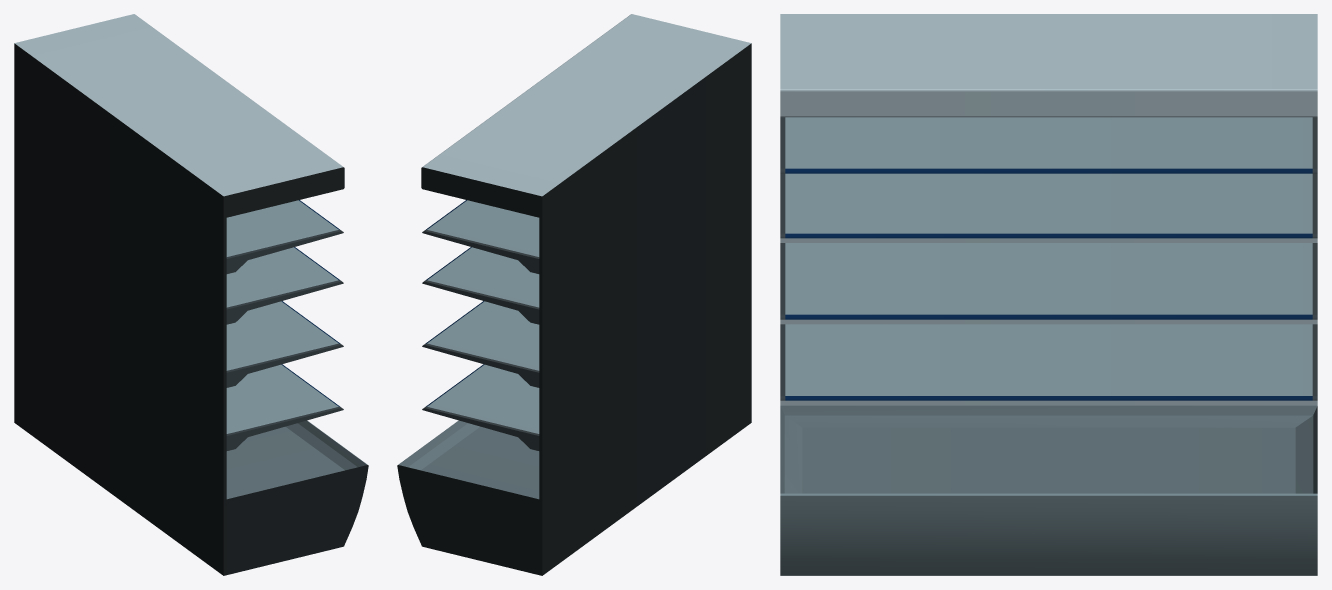
Rendered from Freezer_Open_4row_col.glb.
3 views of the same model, side by side, from view 1: azimuth 30°, elevation 25°; view 2: azimuth 150°, elevation 25°; view 3: azimuth 270°, elevation 25° (orthographic). The views are drawn at different scales.
Parts seen in each view (by area): view 1: Freezer_Open_4row_col; view 2: Freezer_Open_4row_col; view 3: Freezer_Open_4row_col.
Boxes of the visible parts, x1,y1,x2,y2 form: Freezer_Open_4row_col: (14,14,368,575); Freezer_Open_4row_col: (397,14,751,575); Freezer_Open_4row_col: (780,14,1317,575).
Size of the model in its own units: 1.2 by 3 by 3.
Materials: 2 (2 with a texture image).
